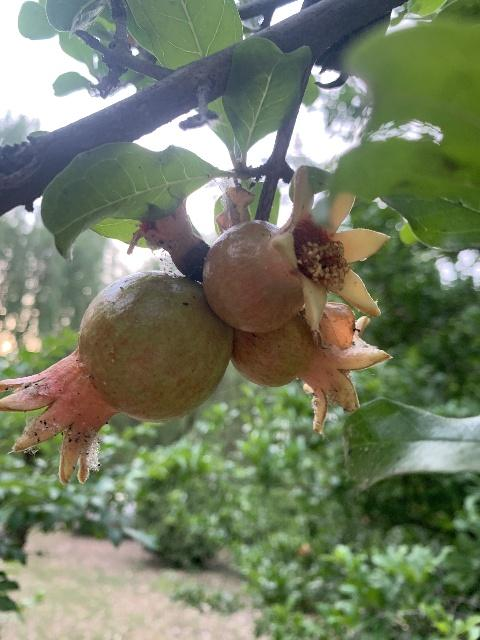early-fruit: (0, 273, 231, 486), (203, 167, 391, 333), (230, 302, 391, 433)
